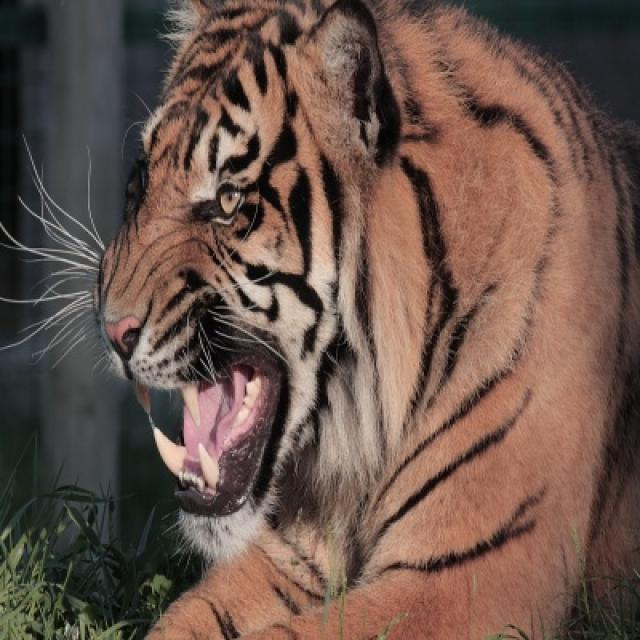Tiger: (97, 0, 638, 638)
